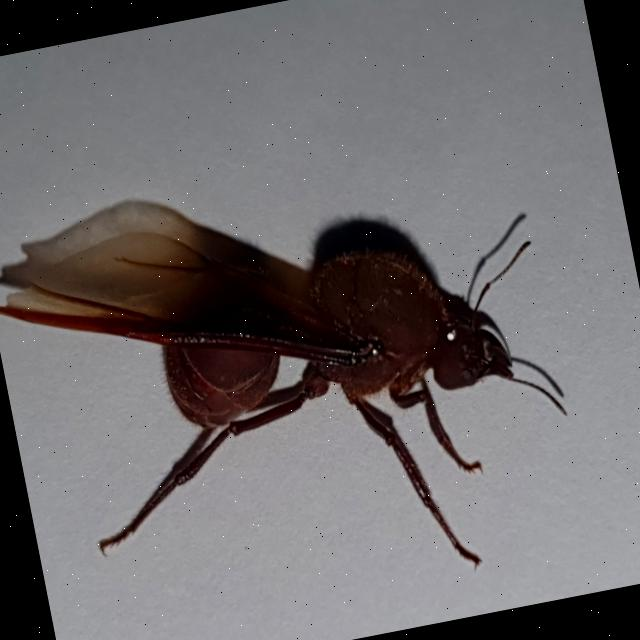Alive-Female-Alate: (0, 155, 594, 640)
